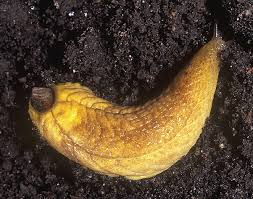slug: (39, 31, 235, 176)
